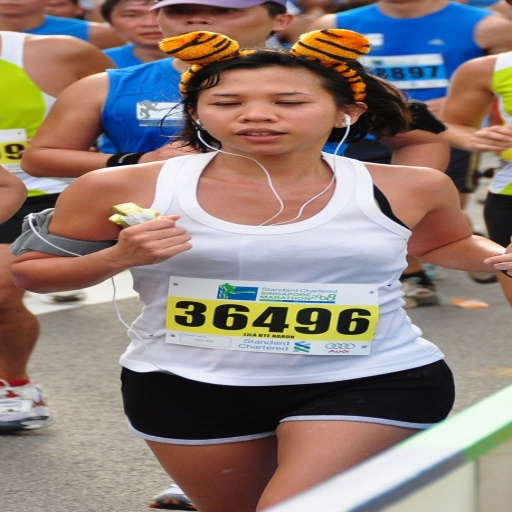hand: (112, 214, 194, 266), (145, 140, 213, 161), (467, 124, 510, 151), (481, 243, 510, 275)
